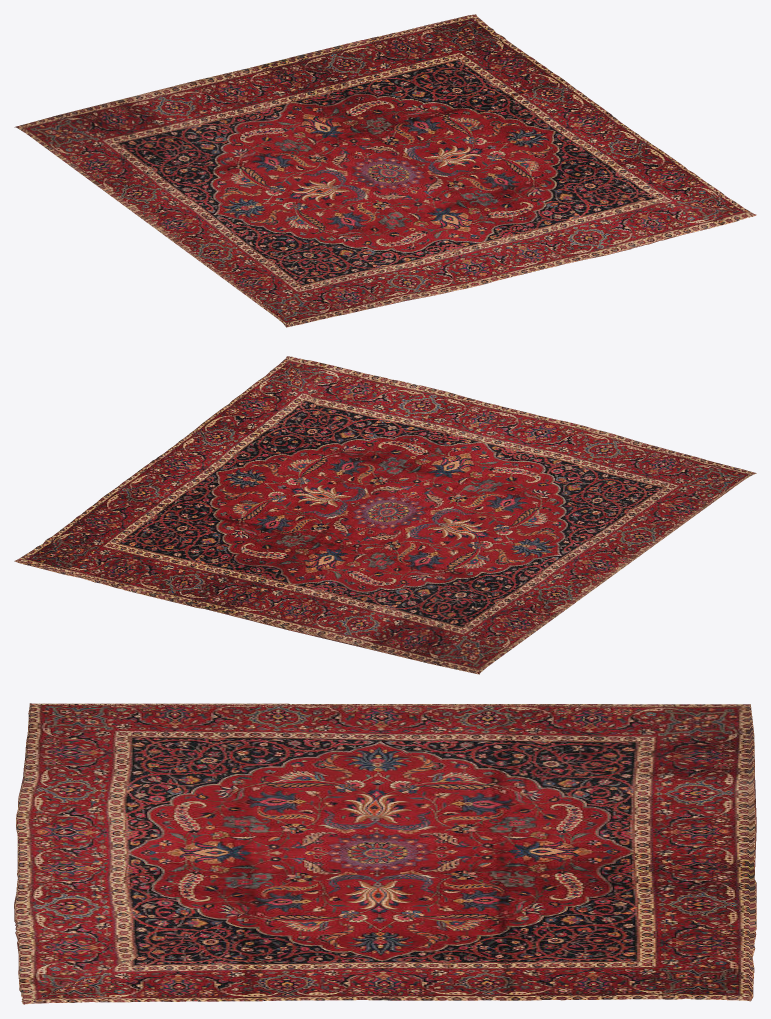
The model's file is Rug3.fbx.
3 views of the same model, one above another, from view 1: azimuth 30°, elevation 25°; view 2: azimuth 150°, elevation 25°; view 3: azimuth 270°, elevation 25° (orthographic). The views are drawn at different scales.
Parts seen in each view (by area): view 1: Plane.002; view 2: Plane.002; view 3: Plane.002.
Boxes of the visible parts, x1=… form: Plane.002: x1=14, y1=14, x2=756, y2=327; Plane.002: x1=14, y1=356, x2=756, y2=674; Plane.002: x1=14, y1=703, x2=756, y2=1004.
Bounding box in the file's own units: 328 × 0.463 × 341.
